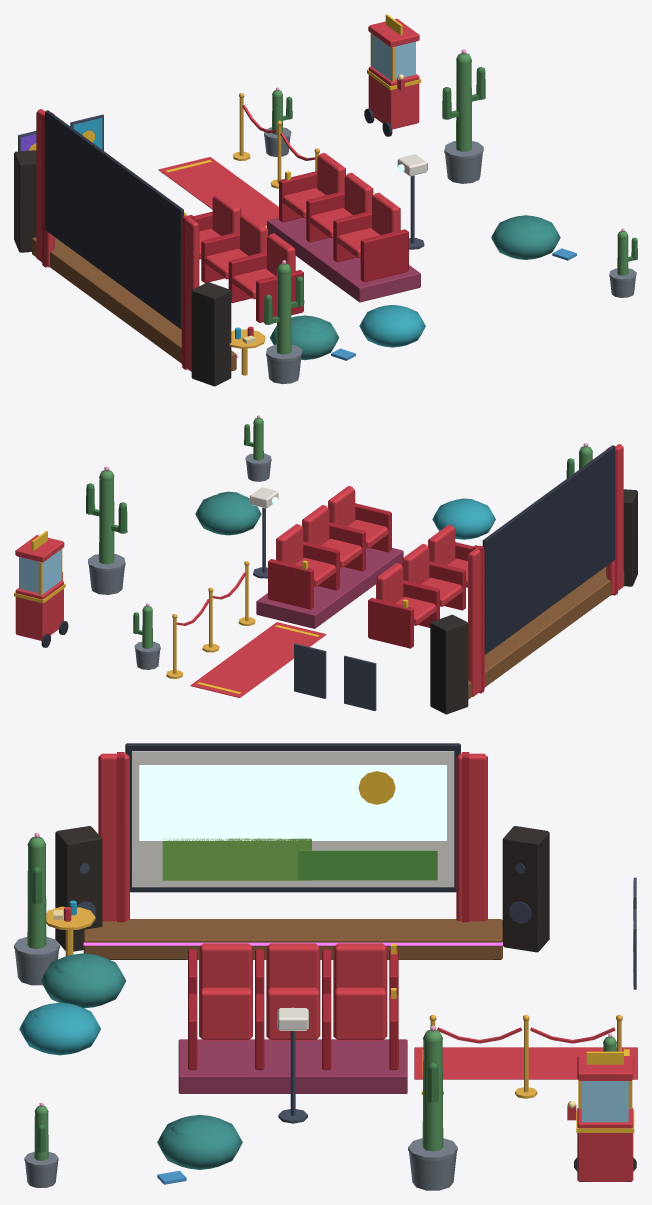
The model's file is einrichtung_kino.glb.
3 renders of one model, top to bottom at view 1: azimuth 30°, elevation 25°; view 2: azimuth 150°, elevation 25°; view 3: azimuth 270°, elevation 25°, orthographic. The views are drawn at different scales.
Visible parts, largest first — view 1: einrichtung_kino; view 2: einrichtung_kino; view 3: einrichtung_kino.
Boxes of the visible parts, <box> form: einrichtung_kino: <box>14,14,637,386</box>; einrichtung_kino: <box>14,415,637,714</box>; einrichtung_kino: <box>14,743,637,1190</box>.
Size of the model in its own units: 6.61 by 2.31 by 6.7.
